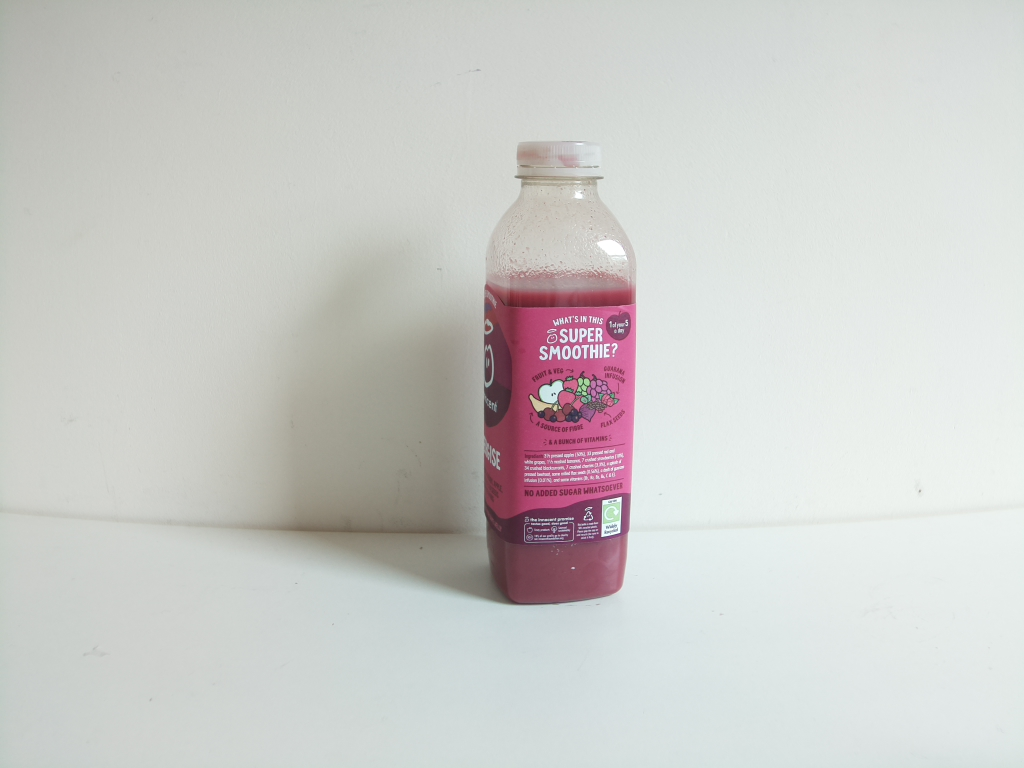juice: (475, 140, 640, 614)
